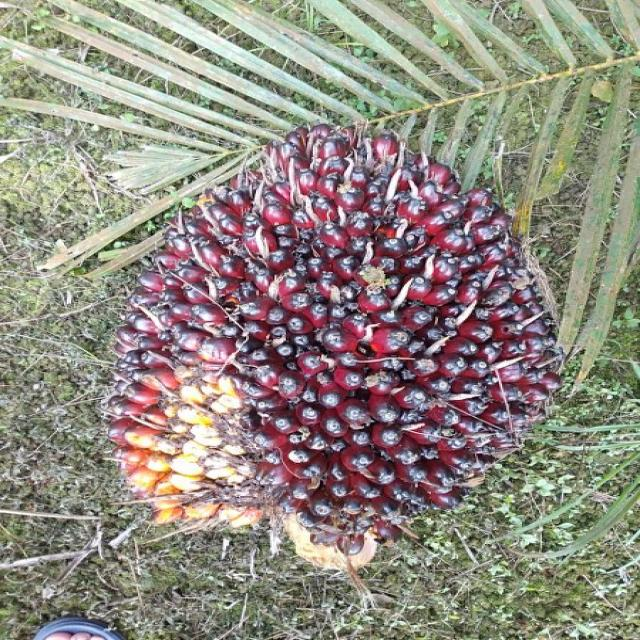fraksi 1: (50, 66, 592, 588)
